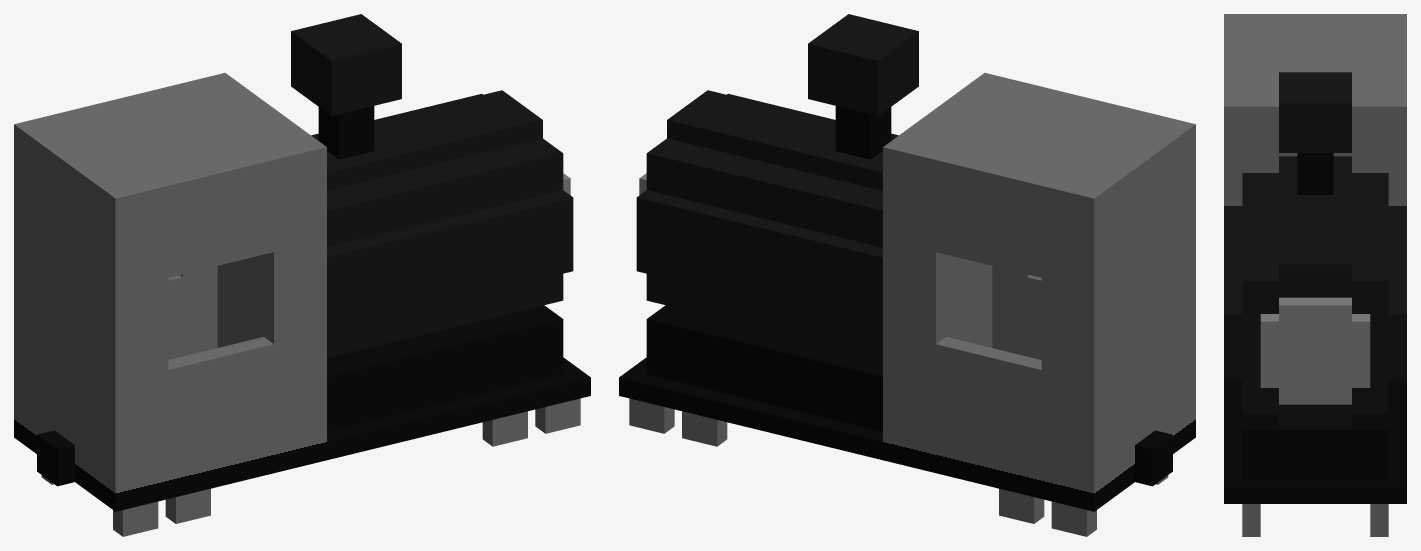
Rendered from train_engine_coal_2.dae.
The picture shows the model from 3 angles, left to right: view 1: azimuth 30°, elevation 25°; view 2: azimuth 150°, elevation 25°; view 3: azimuth 270°, elevation 25°; orthographic projection. The views are drawn at different scales.
Visible parts, largest first — view 1: train_engine_coal_2; view 2: train_engine_coal_2; view 3: train_engine_coal_2.
Part boxes in pixels (x1,y1,x2,y2): train_engine_coal_2: (14, 14, 590, 536); train_engine_coal_2: (619, 14, 1195, 536); train_engine_coal_2: (1224, 14, 1406, 536).
Size of the model in its own units: 2.8 by 1 by 2.2.
Materials: 1 (1 with a texture image).
